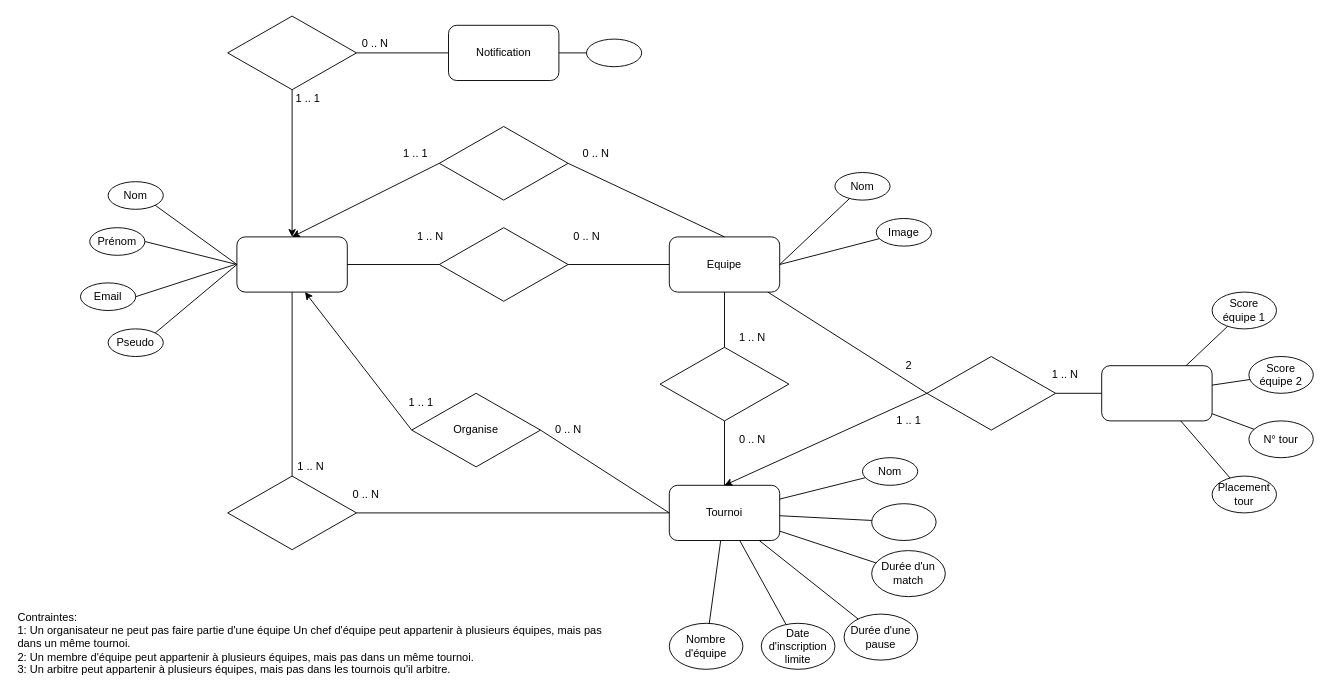
Image size: 1329x693. Some labels were removed from this diagram. The centre of each missing label's shape, as x and y in pixels:
Appartient: the point at 503,264
Arbitre: the point at 291,512
Dirige: the point at 503,163
Match: the point at 1156,393
Message: the point at 614,52
Nom du jeu: the point at 903,521
Notifie: the point at 291,52
Participe: the point at 724,383
Personne: the point at 291,264
Rencontre: the point at 991,393
